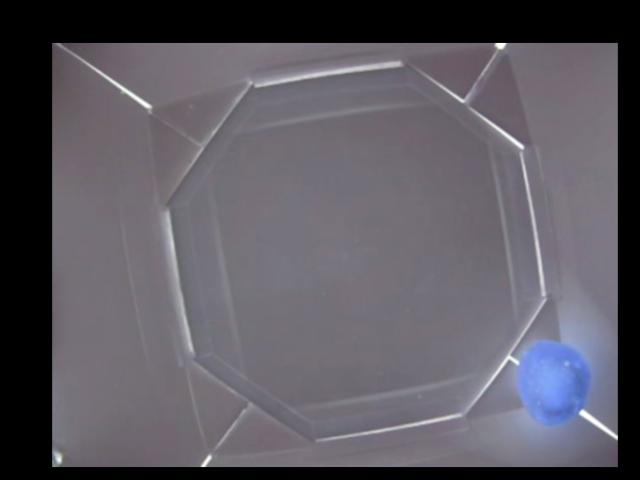Potato: (513, 338, 593, 426)
